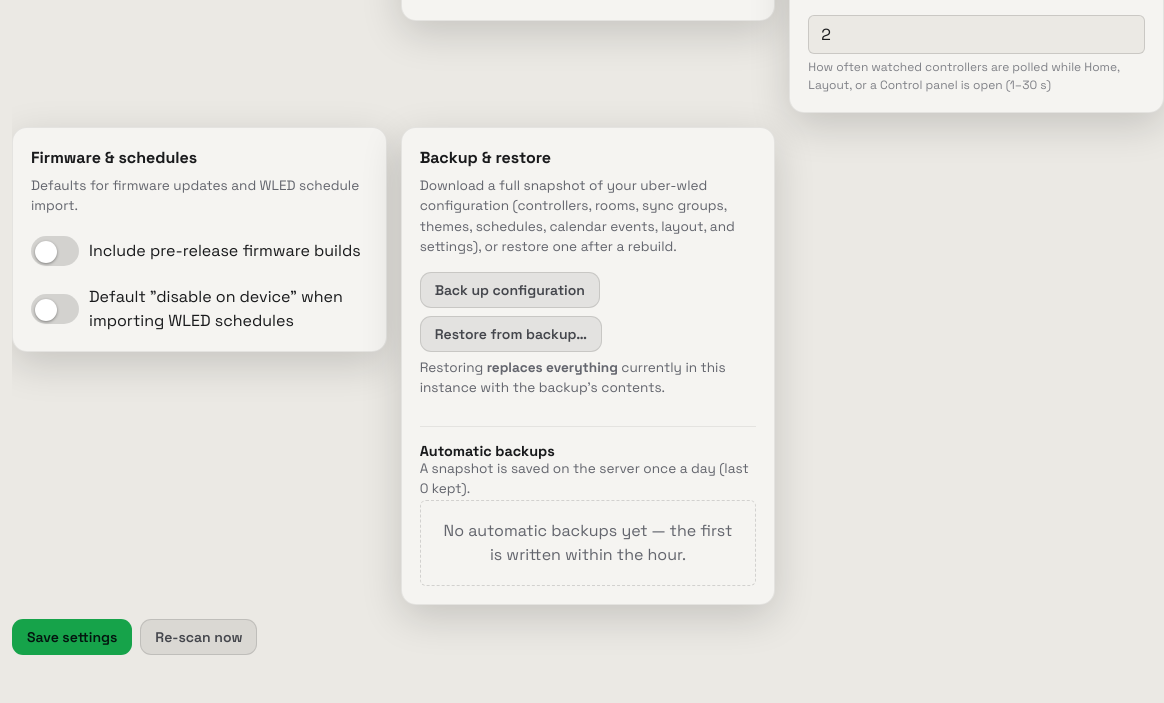
Scenario: SettingsSection v2 › runs a re-scan and reports the result
(page scrolled)
Click the button "Re-scan now" at (199, 637), box [140,619,257,655]
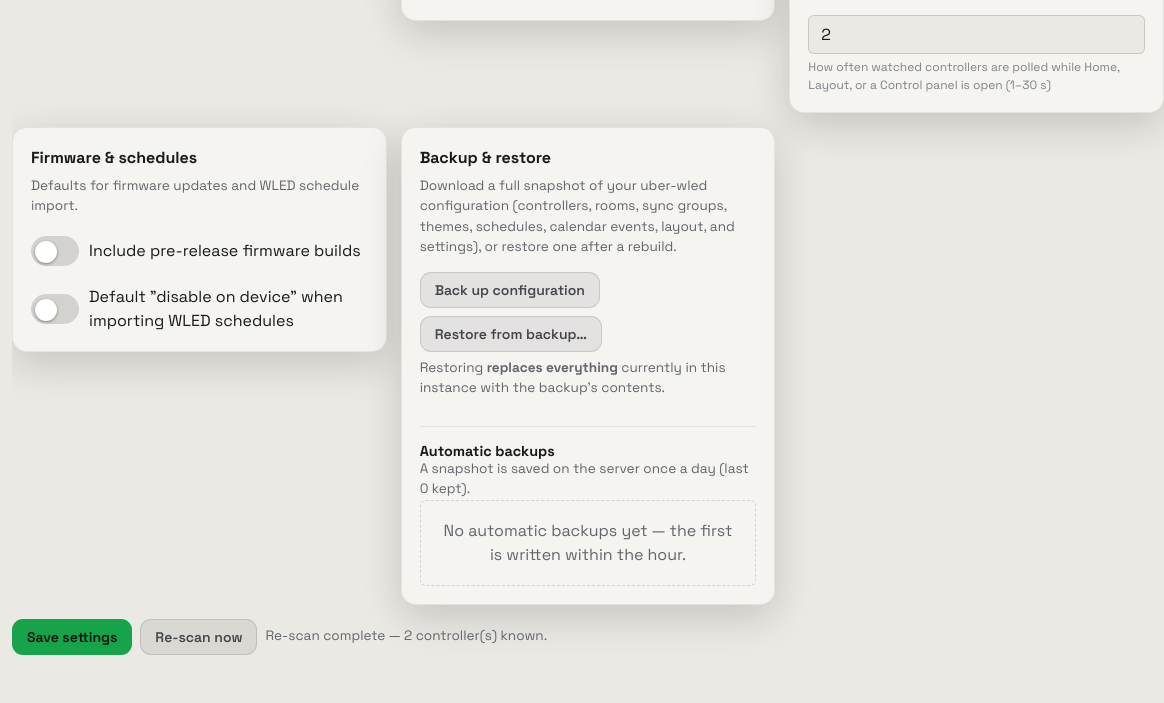
Now the text "Re-scan complete — 2 controller(s) known." is shown, box [266,626,547,647]
